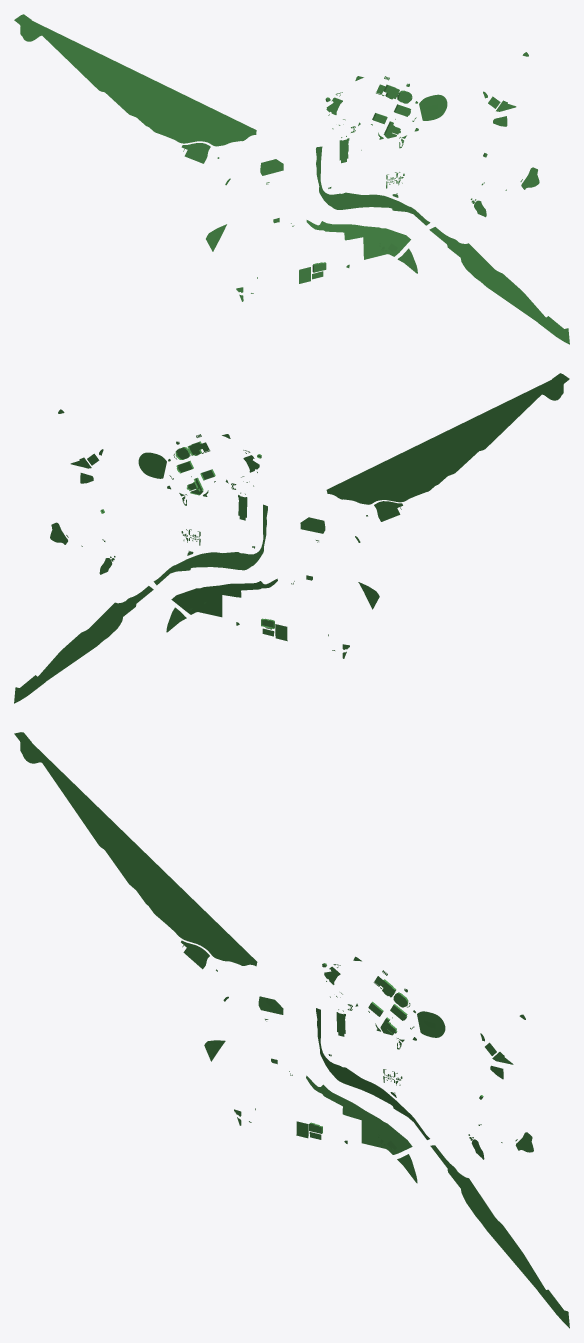
The model's file is parks.obj.
The picture shows the model from 3 angles, top to bottom: view 1: azimuth 30°, elevation 25°; view 2: azimuth 150°, elevation 25°; view 3: azimuth 330°, elevation 25°; orthographic projection.
Bounding box in the file's own units: 5364 × 4276 × 62.72.
